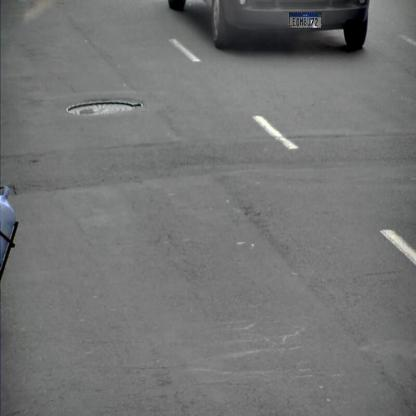PlacaM: (289, 12, 322, 29)
